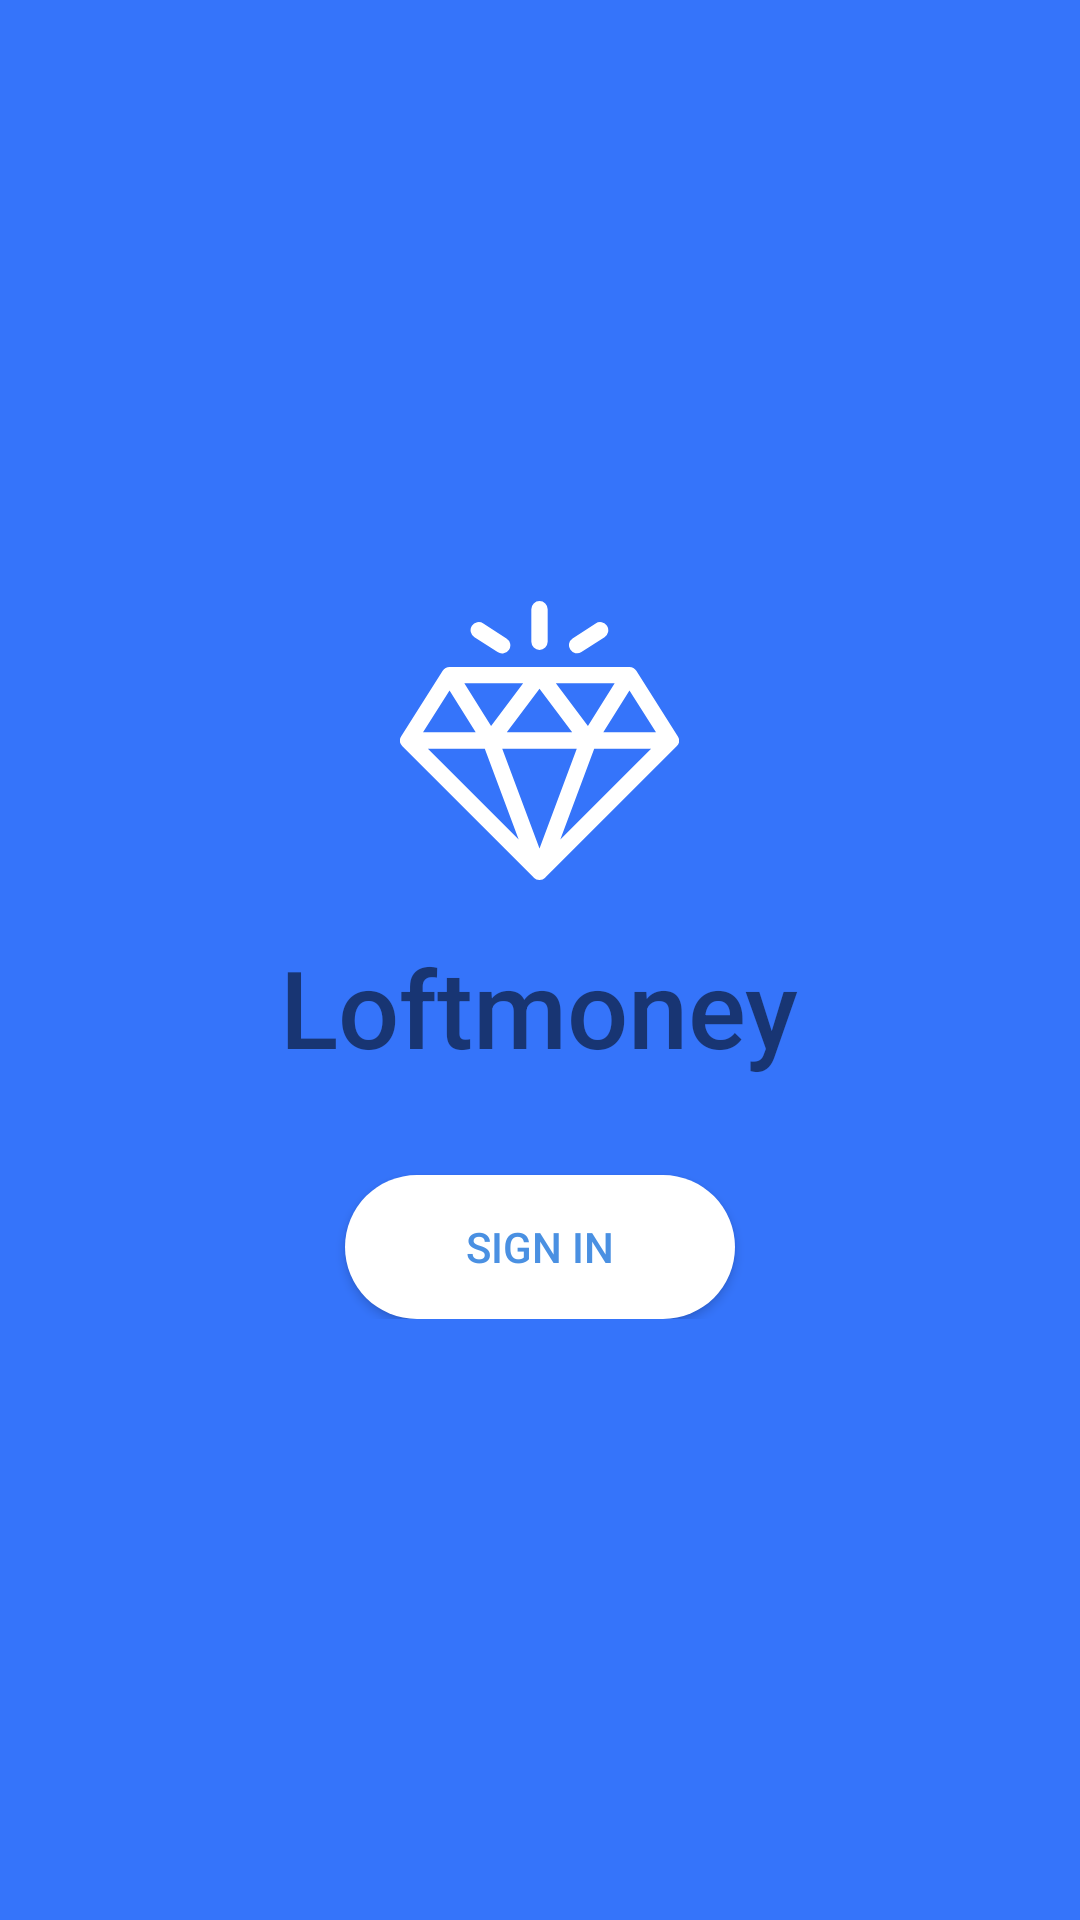

Icons on this 1080px×1920px Android screen, each with the point to tap as point (x, y):
diamond: point (539, 740)
